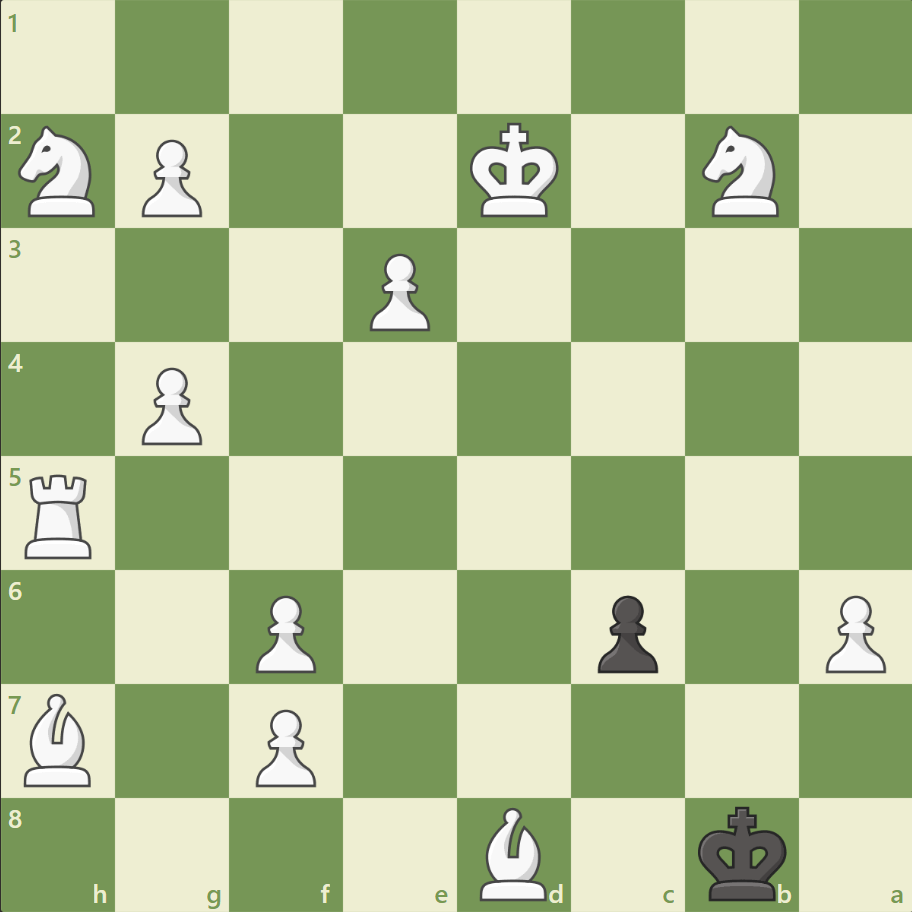B: (471, 801, 555, 904), (17, 687, 101, 790)
K: (465, 117, 565, 225)
N: (692, 121, 789, 223), (11, 121, 108, 223)
P: (247, 700, 322, 791), (247, 586, 322, 677), (133, 359, 208, 450), (133, 132, 208, 223), (815, 586, 889, 677), (361, 246, 435, 337)
R: (19, 466, 102, 563)
k: (692, 798, 792, 906)
p: (588, 586, 662, 677)
